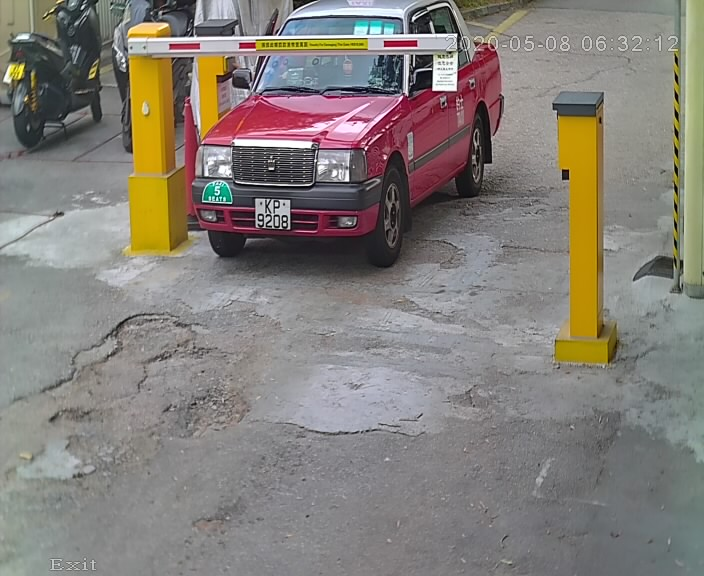taxi: (181, 2, 527, 280)
taxi_mark: (198, 176, 247, 214)
